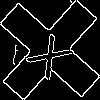X: (25, 25, 80, 81)
